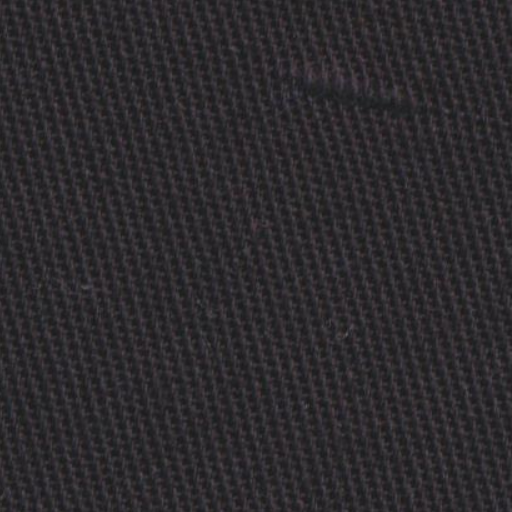DaiSha: (204, 30, 486, 142)
